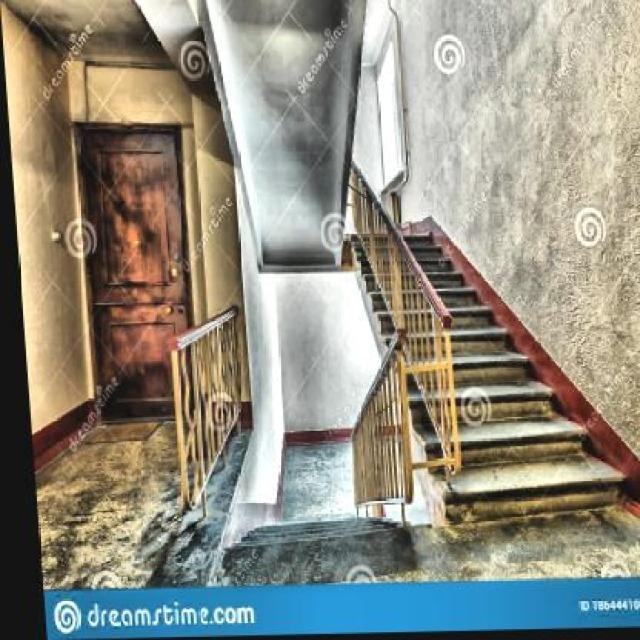stair: (390, 165, 616, 512)
